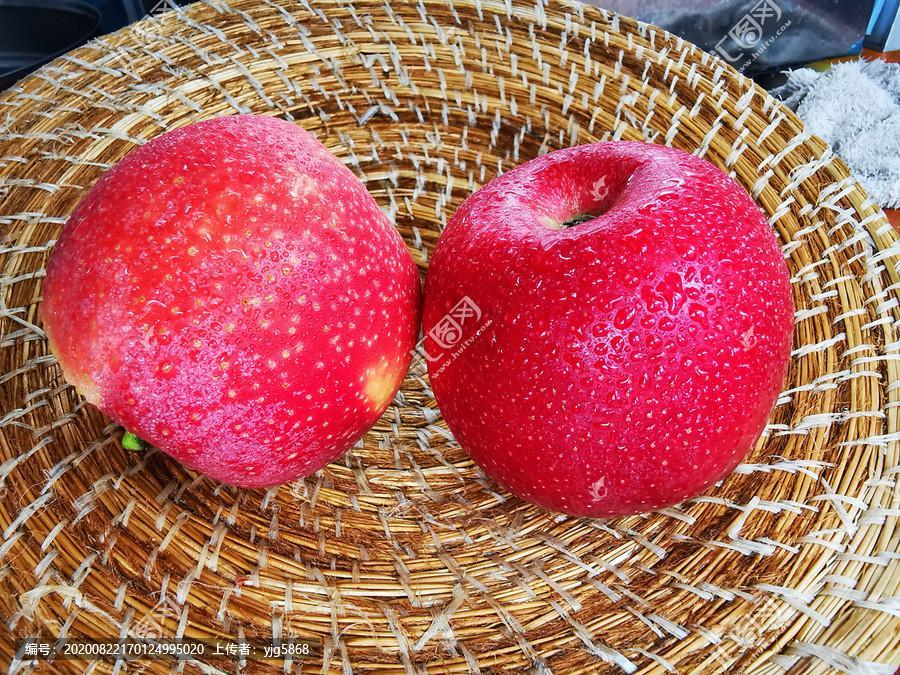apple: (36, 114, 422, 486), (424, 137, 797, 512)
